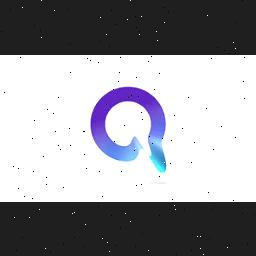q: (78, 76, 178, 178)
